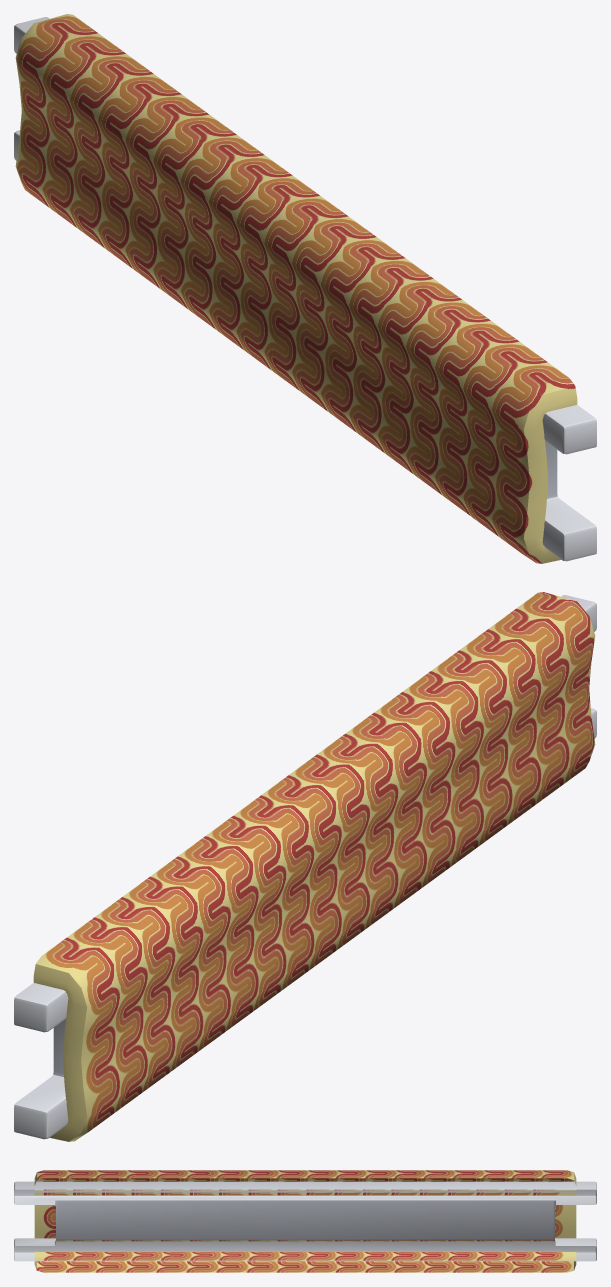
The model's file is SM_WallTip_50x50.fbx.
The picture shows the model from 3 angles, top to bottom: view 1: azimuth 30°, elevation 25°; view 2: azimuth 150°, elevation 25°; view 3: azimuth 270°, elevation 25°; orthographic projection. The views are drawn at different scales.
Parts seen in each view (by area): view 1: SM_WallTip_50x50; view 2: SM_WallTip_50x50; view 3: SM_WallTip_50x50.
Boxes of the visible parts, left/top/right/bottom form: SM_WallTip_50x50: left=14, top=14, right=596, bottom=563; SM_WallTip_50x50: left=14, top=592, right=596, bottom=1141; SM_WallTip_50x50: left=14, top=1170, right=596, bottom=1272.
Bounding box in the file's own units: 16.11 × 280 × 49.9.
Materials: 1 (1 with a texture image).
